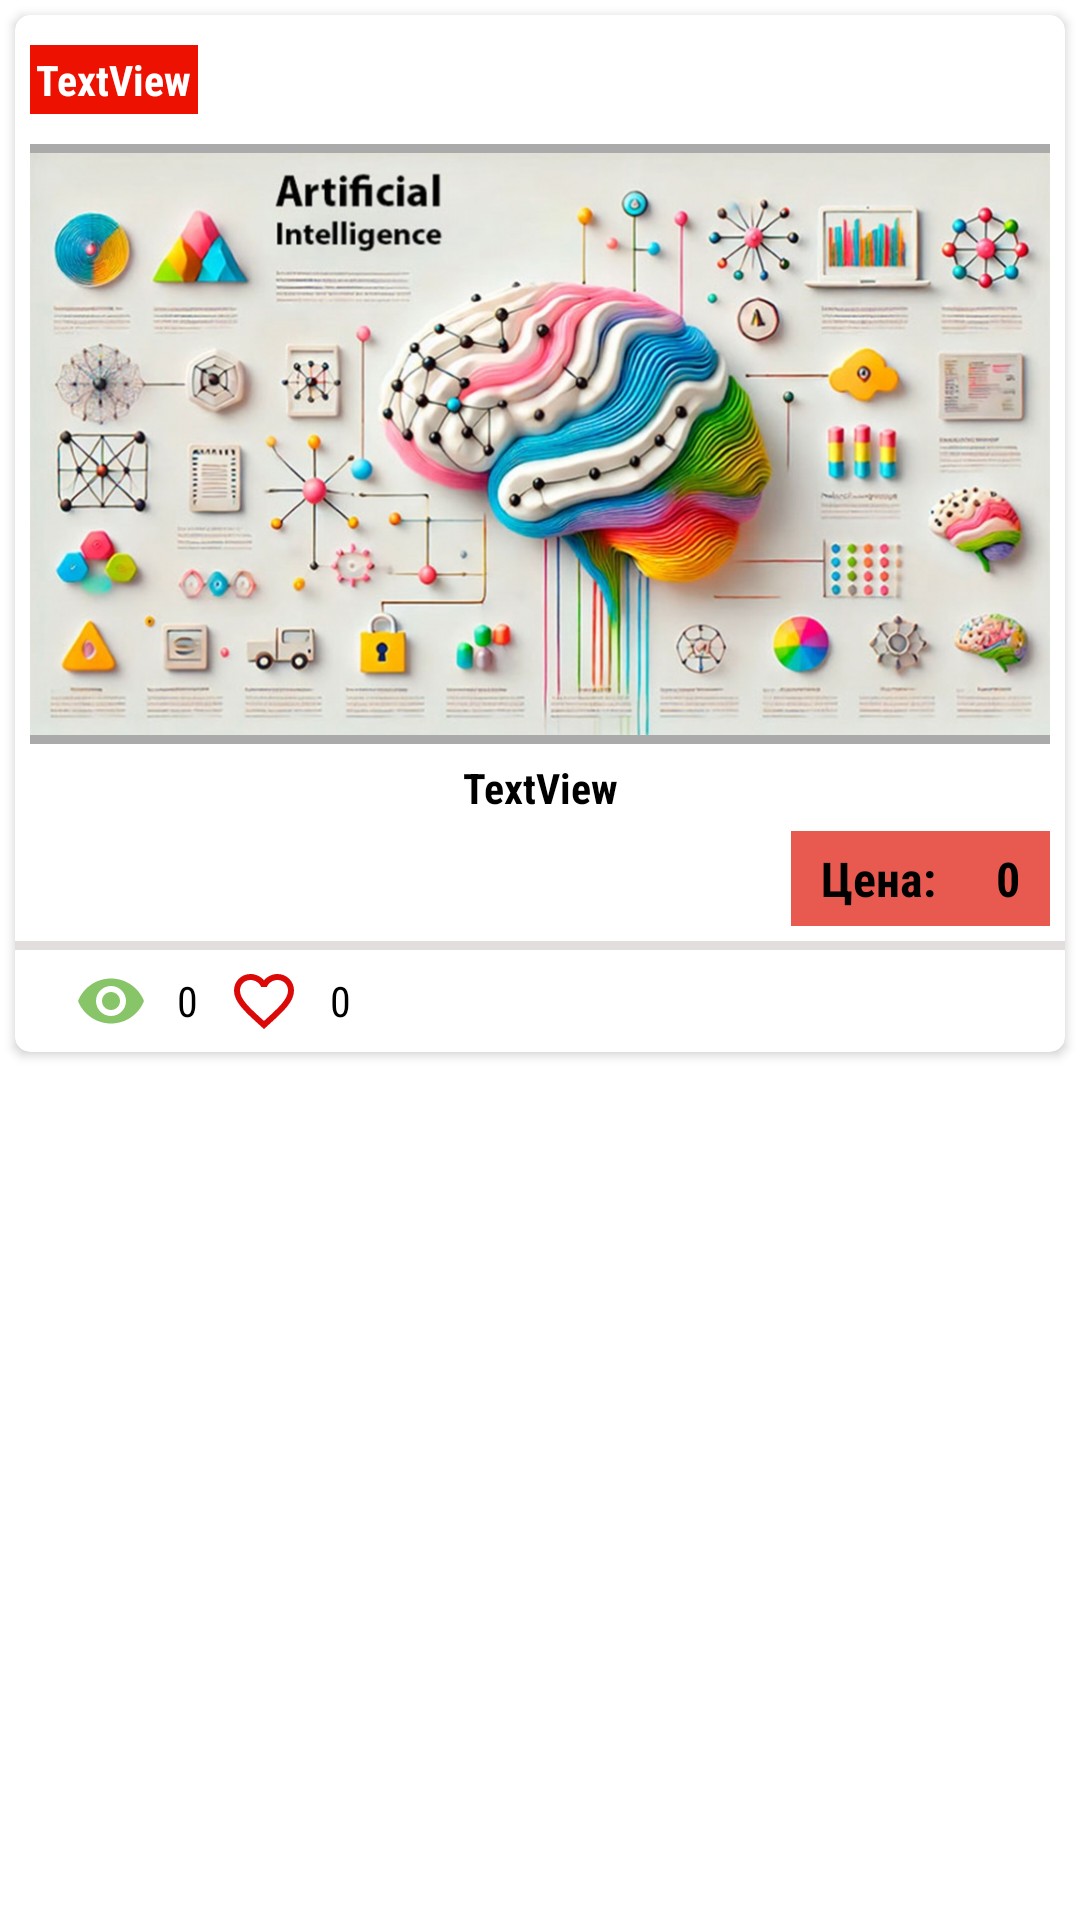

Icon click points for this 1080 x 1920 phone screenshot, format (x,y):
eye: (111,1001)
favorite: (264,1001)
